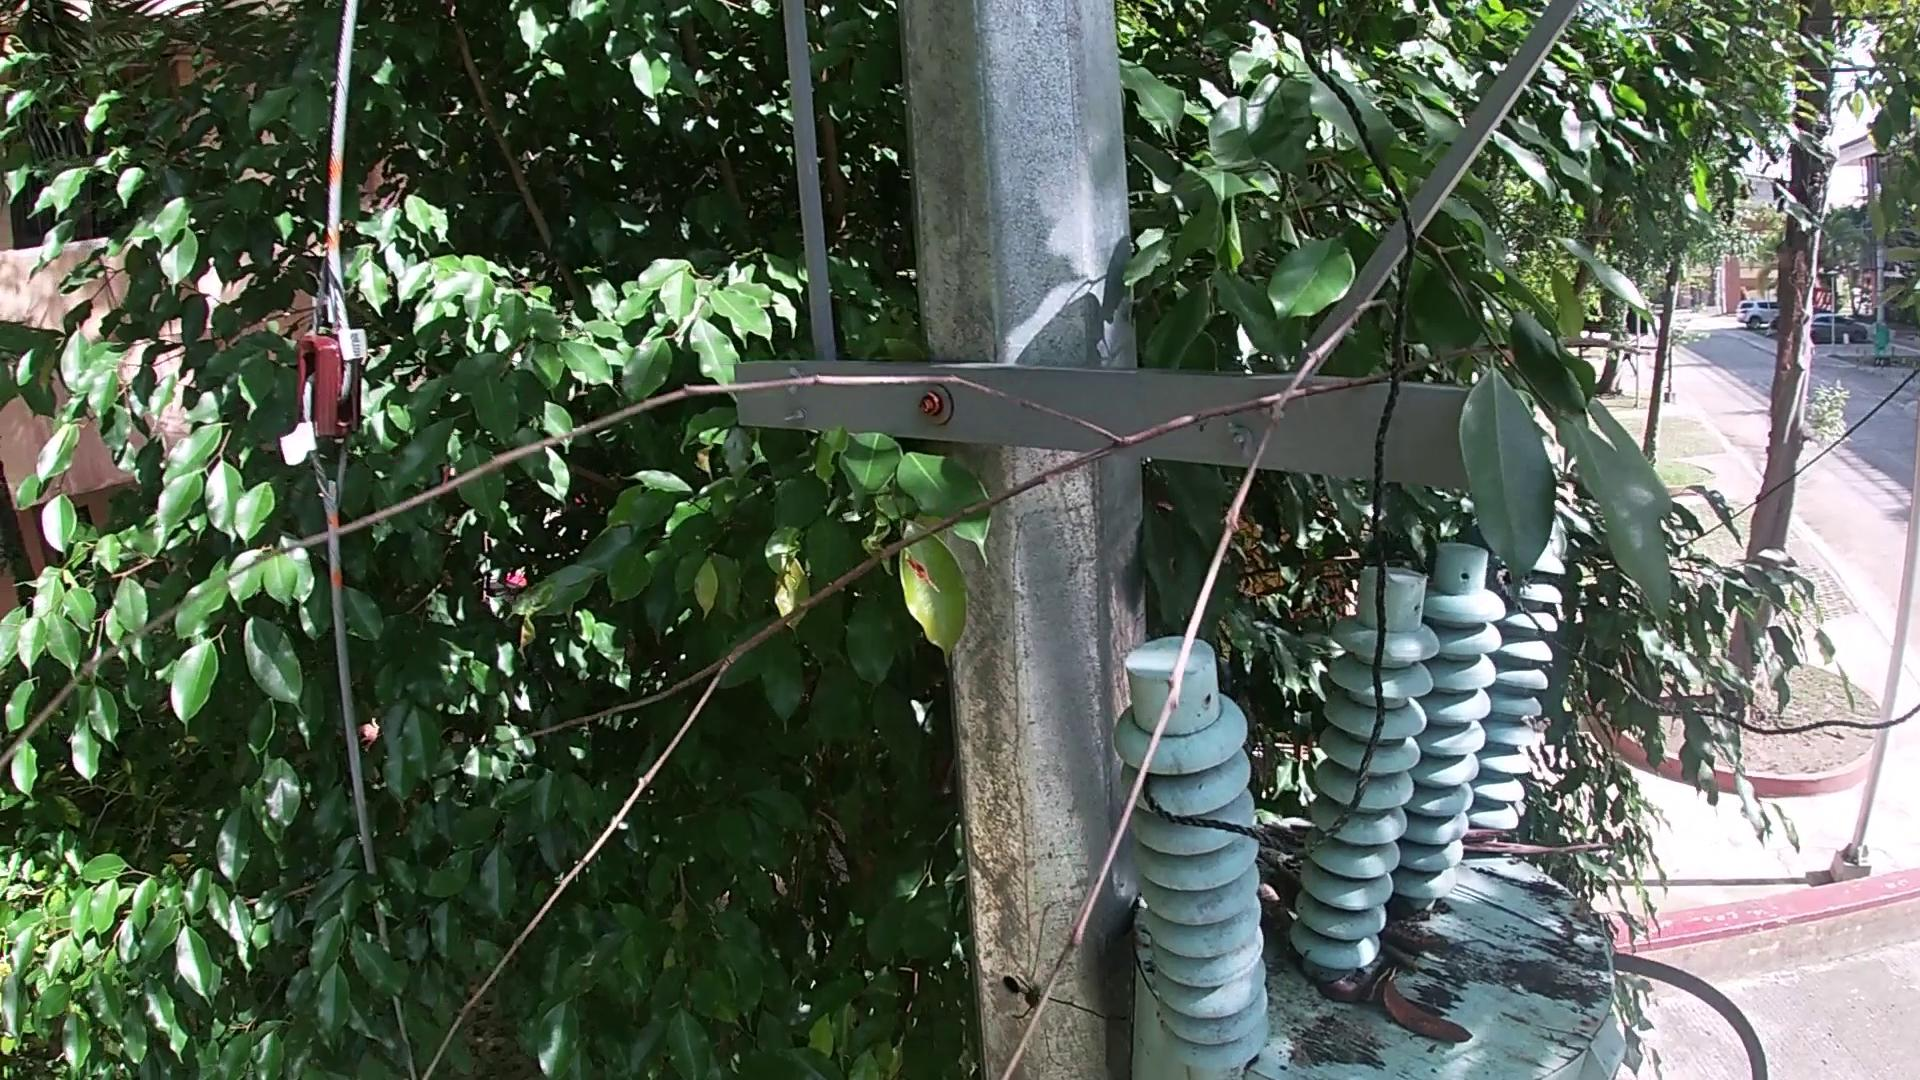leaf: (1307, 981, 1364, 1009)
mahogany fruit: (1371, 990, 1469, 1051), (1385, 913, 1447, 953)
tree branch: (69, 301, 1688, 1079), (1440, 894, 1596, 952), (1472, 823, 1614, 865), (1404, 936, 1510, 953), (1255, 884, 1294, 930), (1269, 823, 1313, 847)
